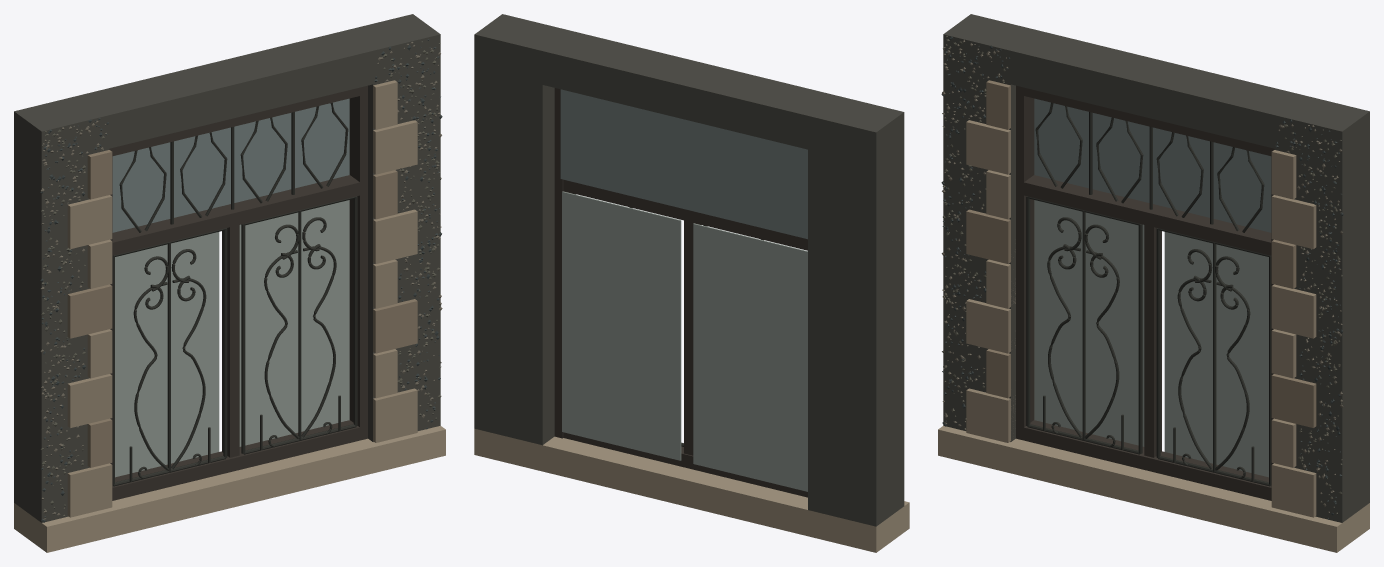
File: jingan-shandao-hall-court-window-raw.glb
3 renders of one model, left to right at view 1: azimuth 30°, elevation 25°; view 2: azimuth 150°, elevation 25°; view 3: azimuth 330°, elevation 25°, orthographic.
Visible parts, largest first — view 1: 善道堂旧址院门旁二层错石窗套与铁花格窗; view 2: 善道堂旧址院门旁二层错石窗套与铁花格窗; view 3: 善道堂旧址院门旁二层错石窗套与铁花格窗.
Boxes of the visible parts, box(x1,y1,x2,y2) form: 善道堂旧址院门旁二层错石窗套与铁花格窗: box(14, 14, 445, 552); 善道堂旧址院门旁二层错石窗套与铁花格窗: box(474, 14, 909, 552); 善道堂旧址院门旁二层错石窗套与铁花格窗: box(938, 14, 1369, 552).
Bounding box in the file's own units: 2.26 × 2.25 × 0.321.
